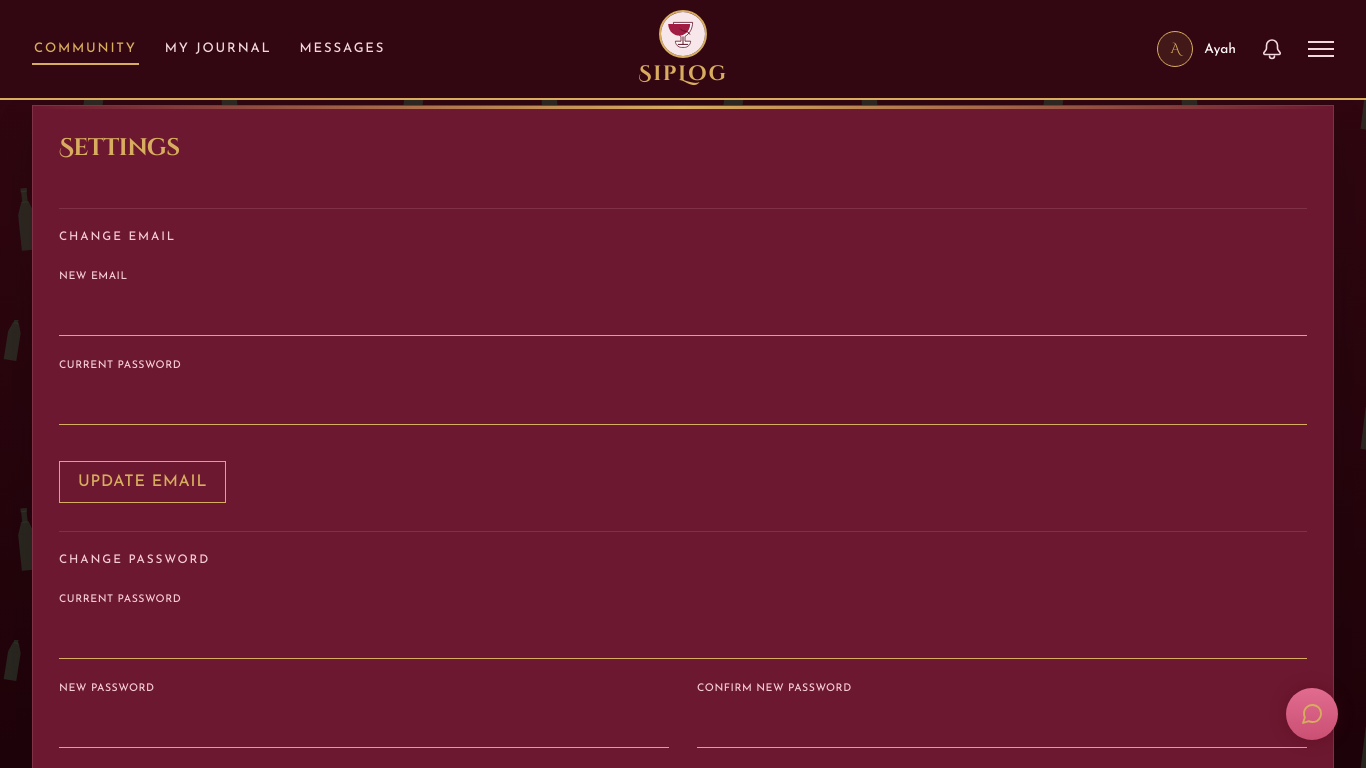
Test case: SettingsPage › blocks a password change when the confirmation doesn't match
Type "supersecret123" into the password field labelled "Current password" below "Change password" at (683, 639), box [59, 619, 1307, 659]
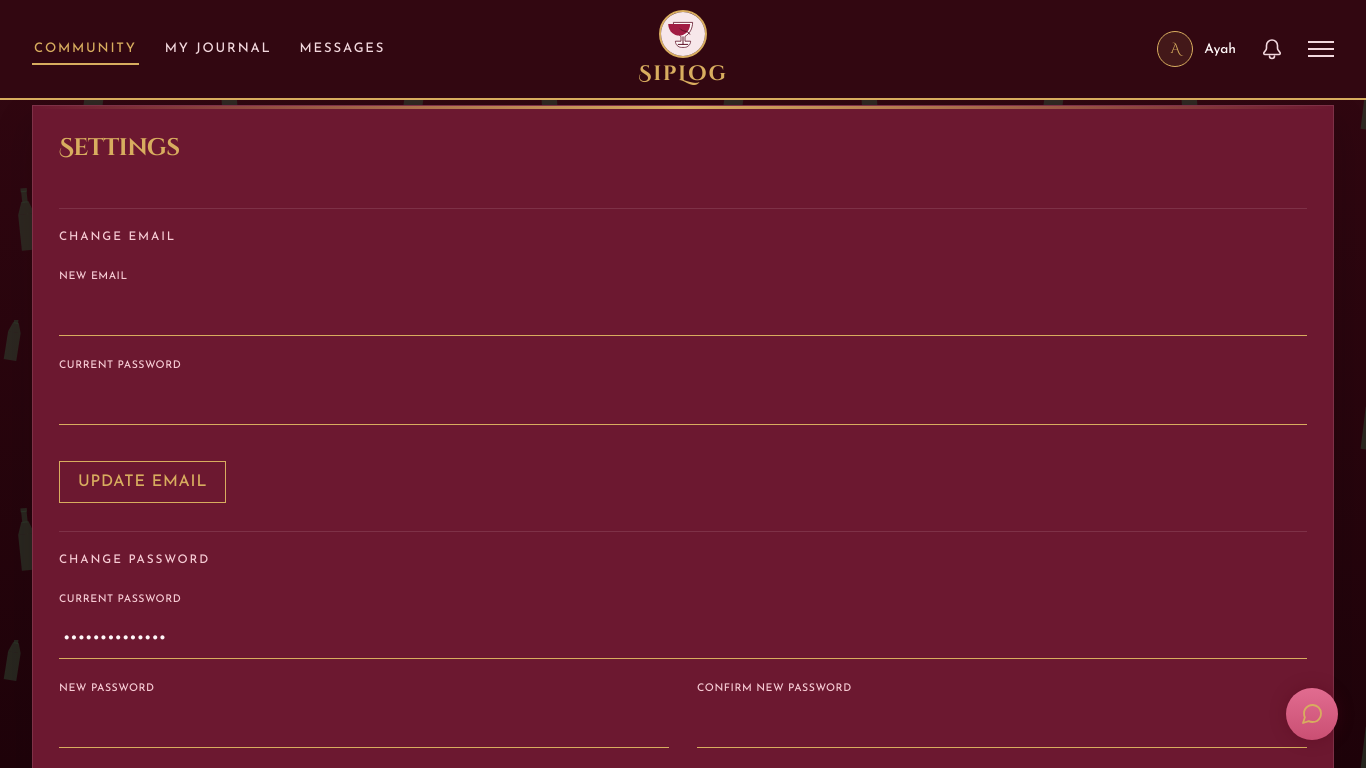
Type "brand-new-password" into the password field labelled "New password" at (364, 728), box [59, 708, 669, 748]
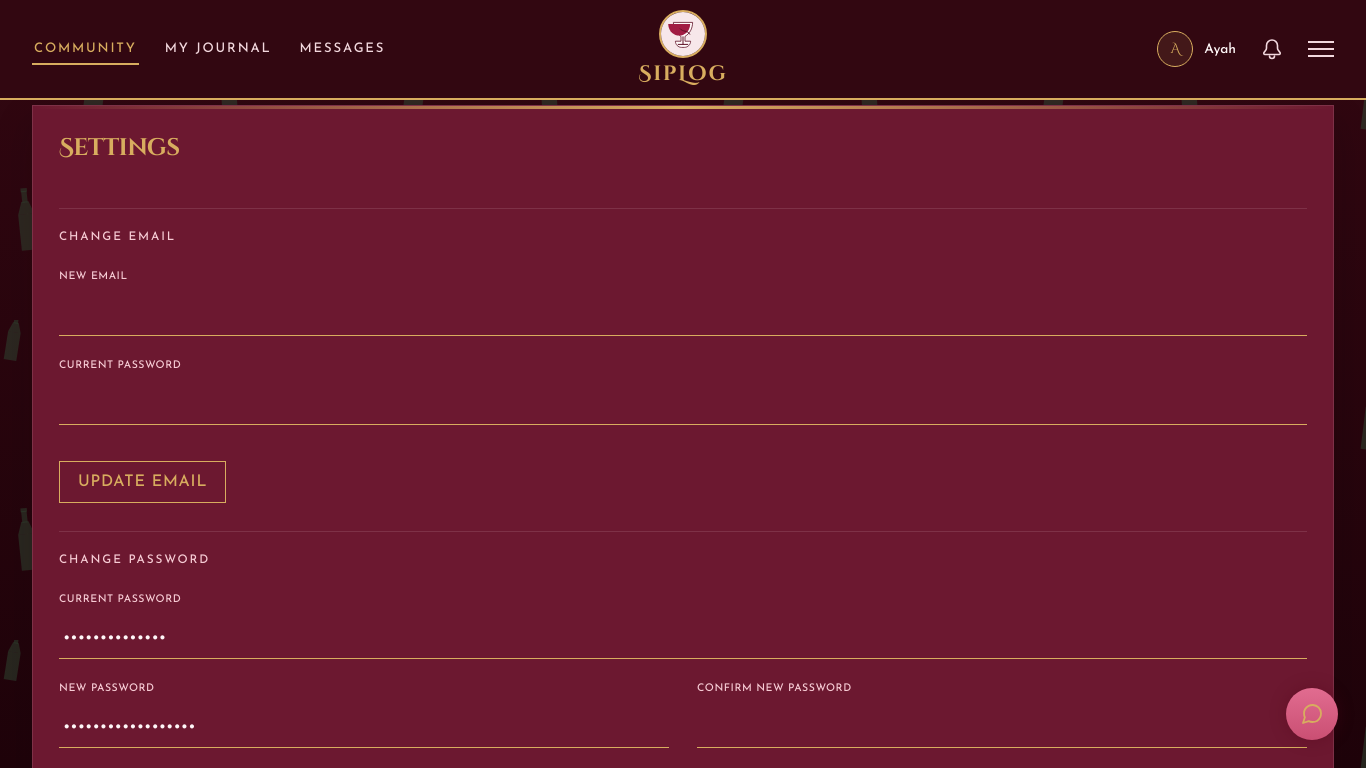
Type "does-not-match" into the password field labelled "Confirm new password" at (1002, 728), box [697, 708, 1307, 748]
(page scrolled)
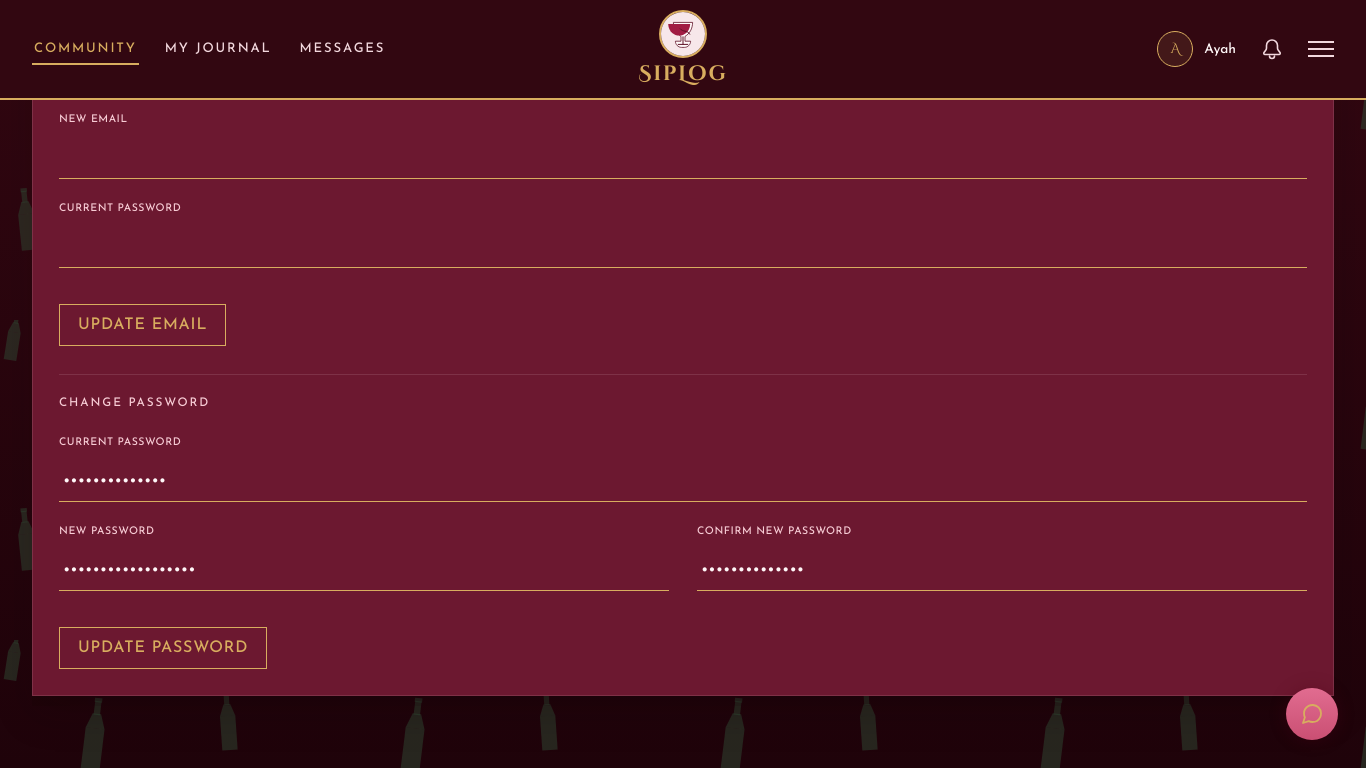
Click the button "Update password" at (163, 648), box [59, 627, 267, 669]
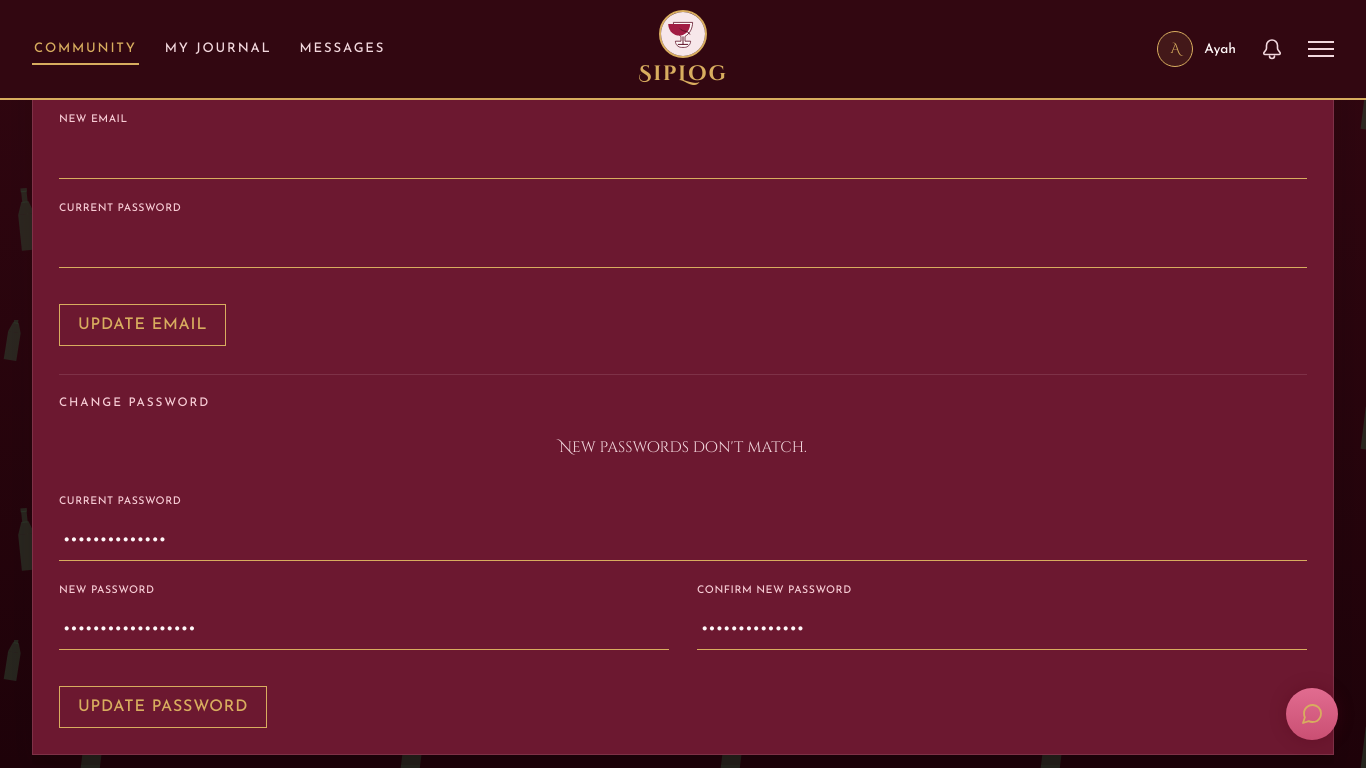
Expected: the text "New passwords don't match." is shown, [59, 437, 1307, 458]
